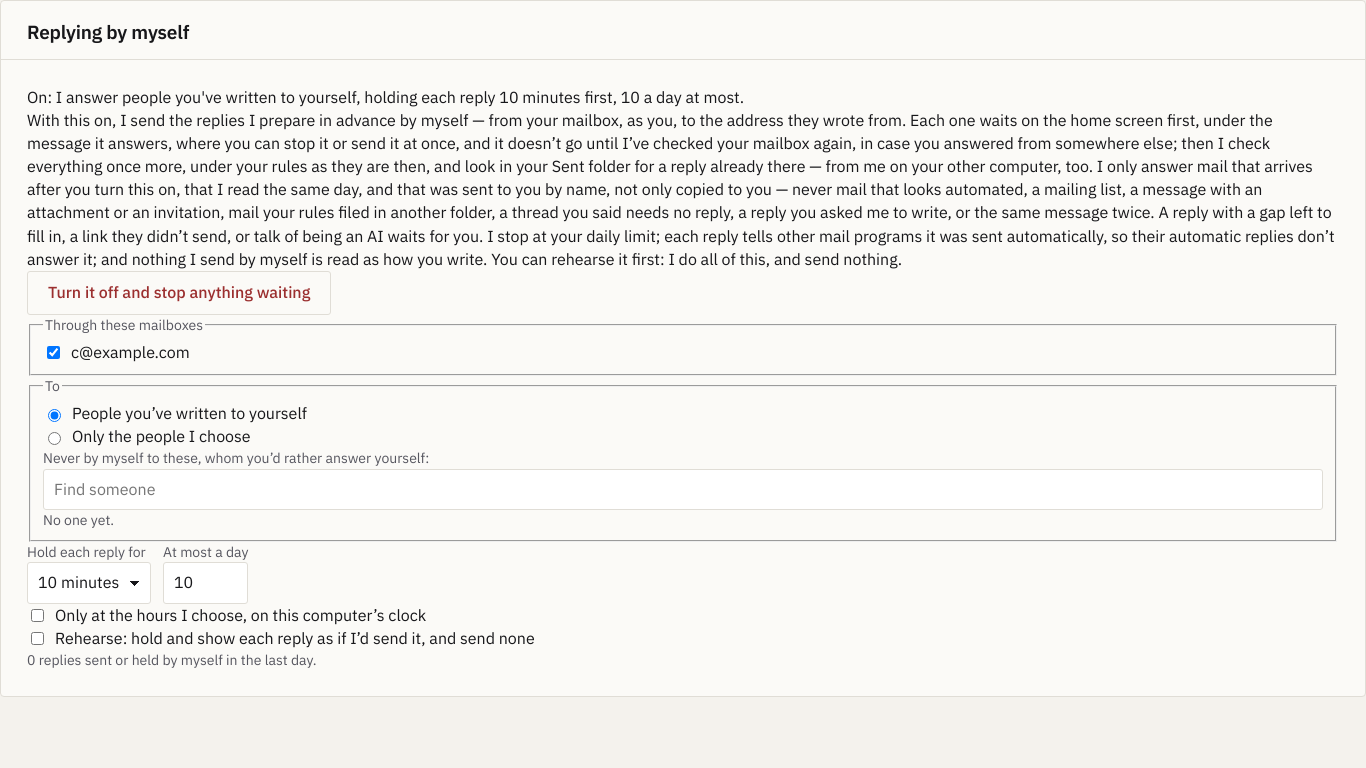
Test: replying by myself › leaves out by name whomever the user would rather answer
This screenshot has width=1366, height=768.
Expected: the text "No one yet." is shown, [43,511,114,529]
Type "ada" into the search field named "Find someone to leave out".
click(683, 489); type("ada")  # box [43,469,1323,510]
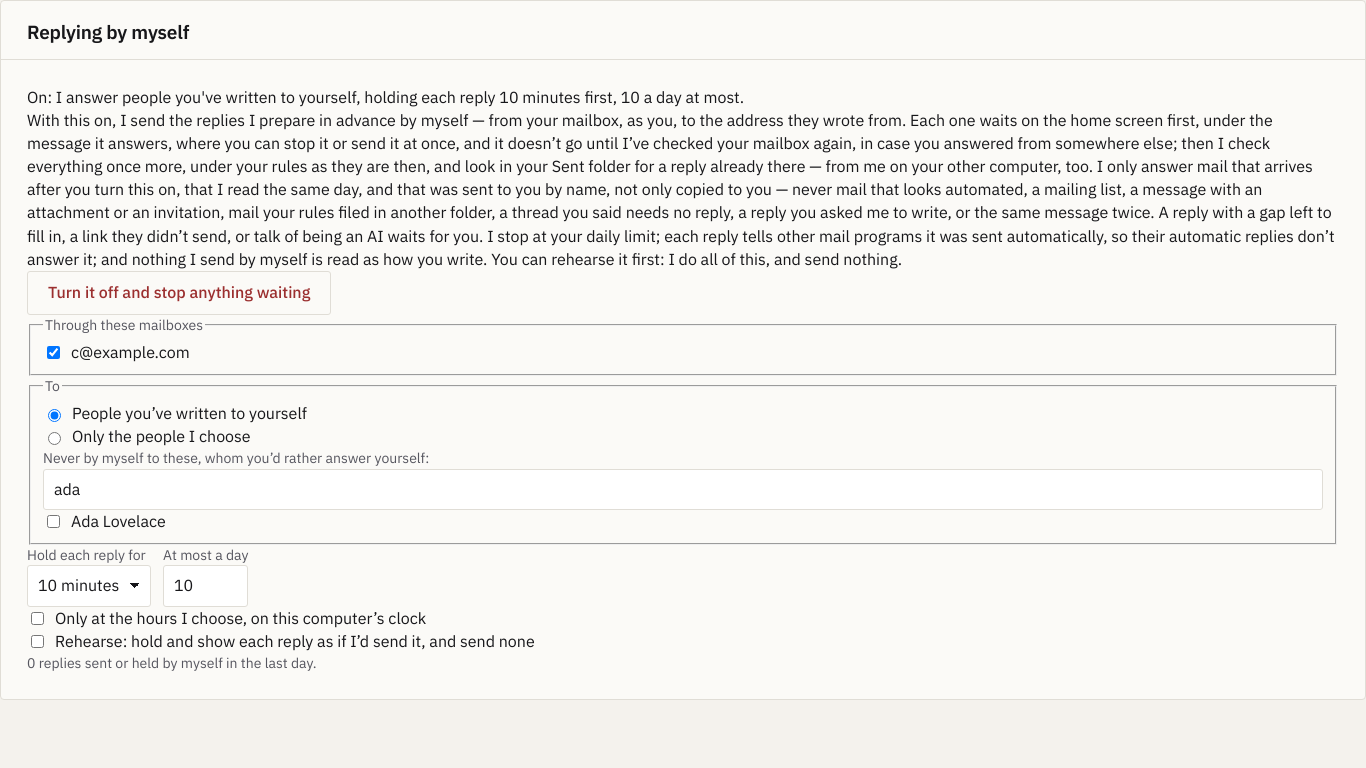
Click the checkbox labelled "Ada Lovelace".
click(54, 522)  # box [47,515,60,528]
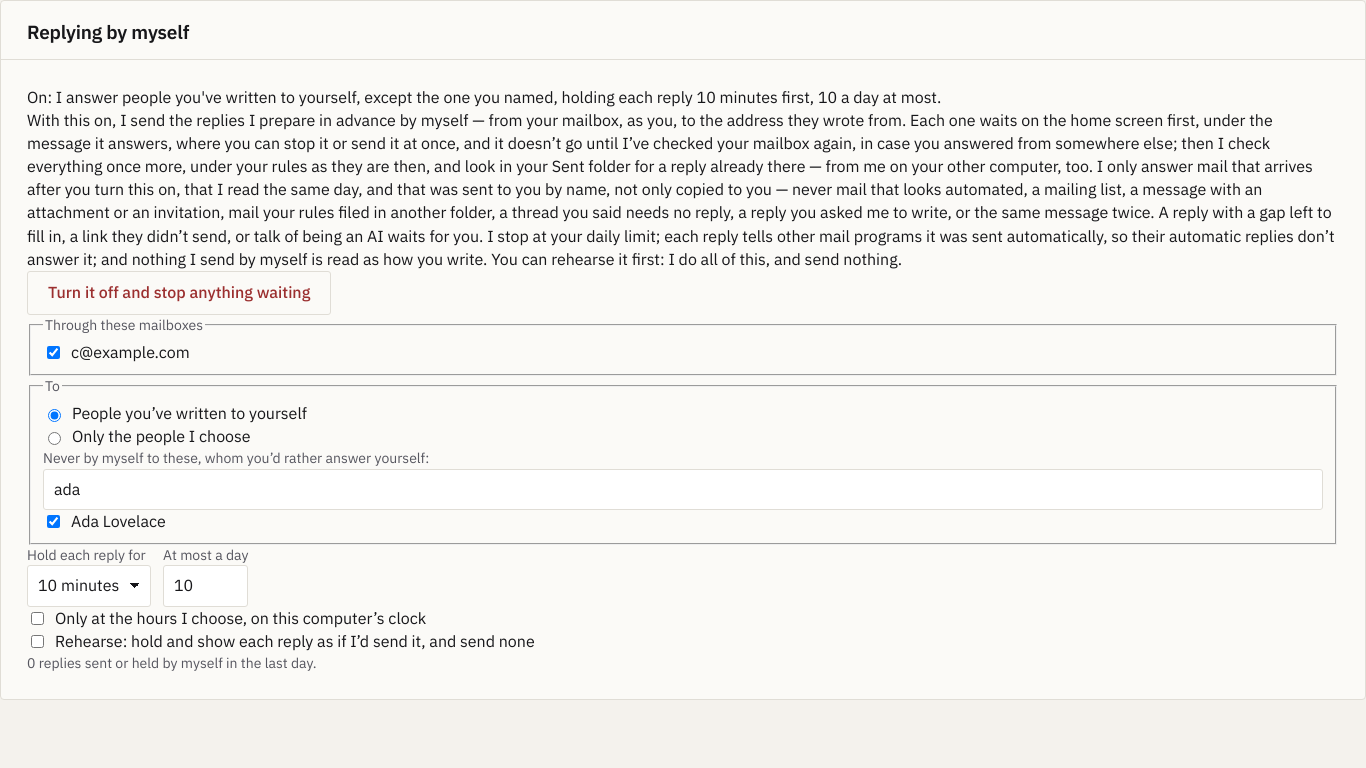
Expected: the text "people you've written to yourself, except the one you named" is shown, [27,86,941,106]
